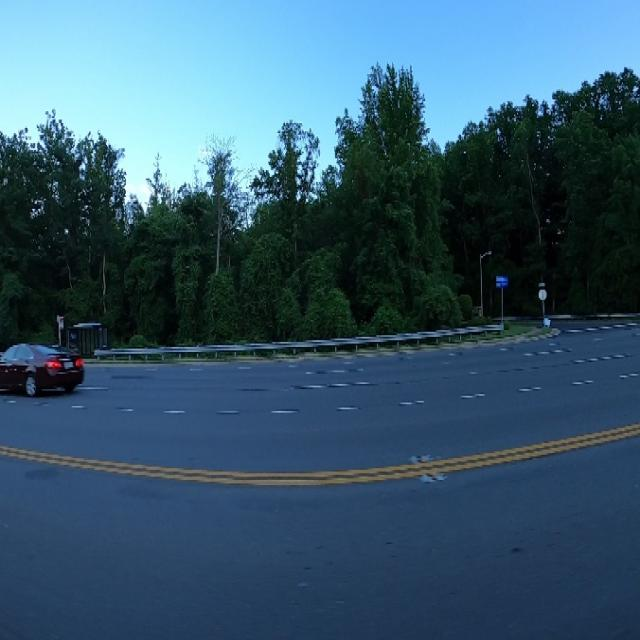cars: (0, 318, 88, 410)
